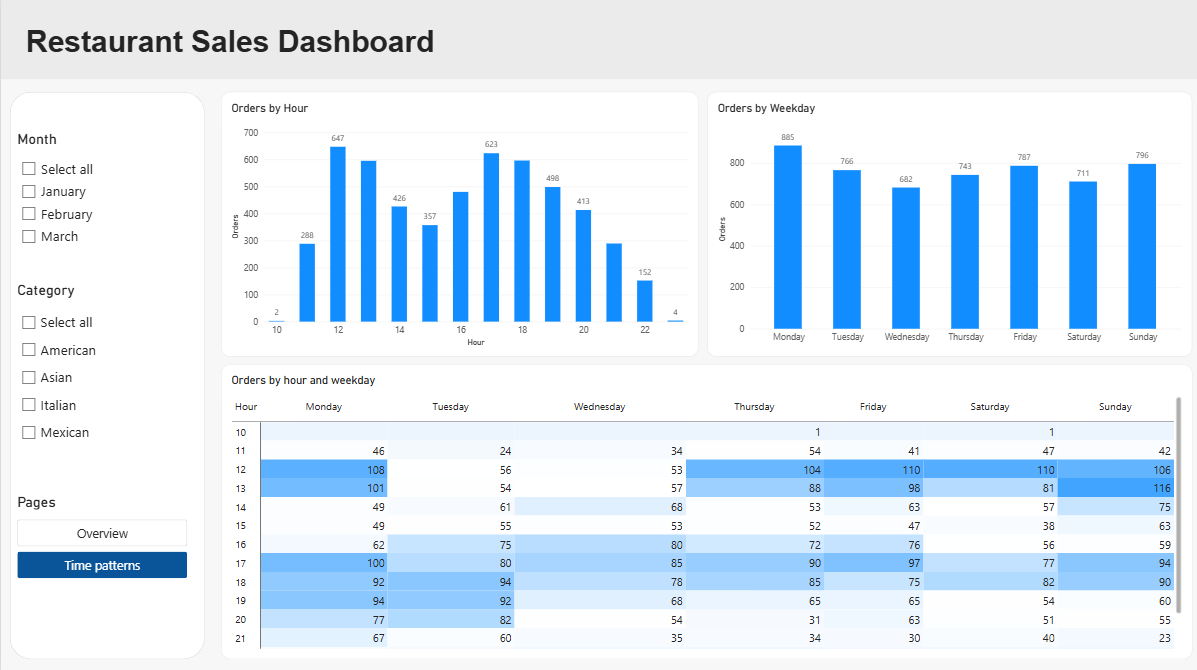

The page's visual inventory and layout, read from the dashboard file:
{"tool":"powerbi","page":{"name":"Time patterns","canvas":[1920,1080],"ordinal":1},"visuals":[{"type":"shape","box":[0,0,1920,130],"z":0,"group":"g1"},{"type":"shape","box":[14,150,312,908],"z":0,"group":"g2"},{"type":"columnChart","title":"Orders by Hour","fields":{"Category":["order_details.Hour"],"Y":["order_details.Orders"]},"box":[352,150,764,424],"z":0},{"type":"textbox","box":[40,42,854,68],"z":1000,"group":"g1"},{"type":"columnChart","title":"Orders by Weekday","fields":{"Category":["order_details.Weekday"],"Y":["order_details.Orders"]},"box":[1130,150,776,424],"z":1000},{"type":"group","id":"g1","title":"Group 1","box":[0,0,1920,130],"z":2000},{"type":"pivotTable","title":"Orders by hour and weekday","fields":{"Columns":["order_details.Weekday"],"Rows":["order_details.Hour"],"Values":["order_details.Orders"]},"box":[352,586,1554,472],"z":3000},{"type":"group","id":"g2","title":"Group 2","box":[14,150,314,908],"z":4000},{"type":"slicer","title":"Month","fields":{"Values":["order_details.order_date.Variation.Date Hierarchy.Month"]},"box":[26,212,298,228],"z":5000,"group":"g2"},{"type":"slicer","title":"Category","fields":{"Values":["menu_items.category"]},"box":[26,454,302,324],"z":9000,"group":"g2"},{"type":"pageNavigator","title":"Pages","box":[26,792,272,138],"z":10000,"group":"g2"}]}

Visuals, with their boxes in screenshot pixels (x1, y1, x2, y2), scaled from the page's 1920x1080 canvas onto the 1197x670 screenshot:
shape: (x1=0, y1=0, x2=1196, y2=81)
shape: (x1=9, y1=93, x2=203, y2=656)
"Orders by Hour" columnChart: (x1=219, y1=93, x2=696, y2=356)
textbox: (x1=25, y1=26, x2=557, y2=68)
"Orders by Weekday" columnChart: (x1=704, y1=93, x2=1188, y2=356)
"Group 1" group: (x1=0, y1=0, x2=1196, y2=81)
"Orders by hour and weekday" pivotTable: (x1=219, y1=364, x2=1188, y2=656)
"Group 2" group: (x1=9, y1=93, x2=204, y2=656)
"Month" slicer: (x1=16, y1=132, x2=202, y2=273)
"Category" slicer: (x1=16, y1=282, x2=204, y2=483)
"Pages" pageNavigator: (x1=16, y1=491, x2=186, y2=577)
